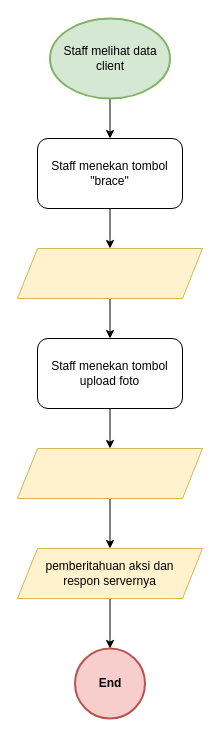
Some shapes in this 220 by 736 pixel diagram are drawn without their labels. The shapes that lost their labels are listed below. From the top down, each one's centre as x and y in pixels, then its label:
At point 109,273: "data dan informasi brace pesanan client".
At point 109,473: "staff mengupload foto sesuai kategori".
